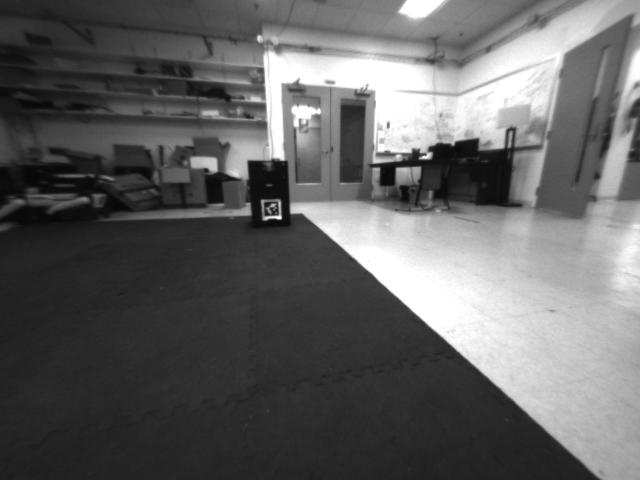door_handle: (317, 145, 332, 158)
drawer: (258, 158, 279, 175)
